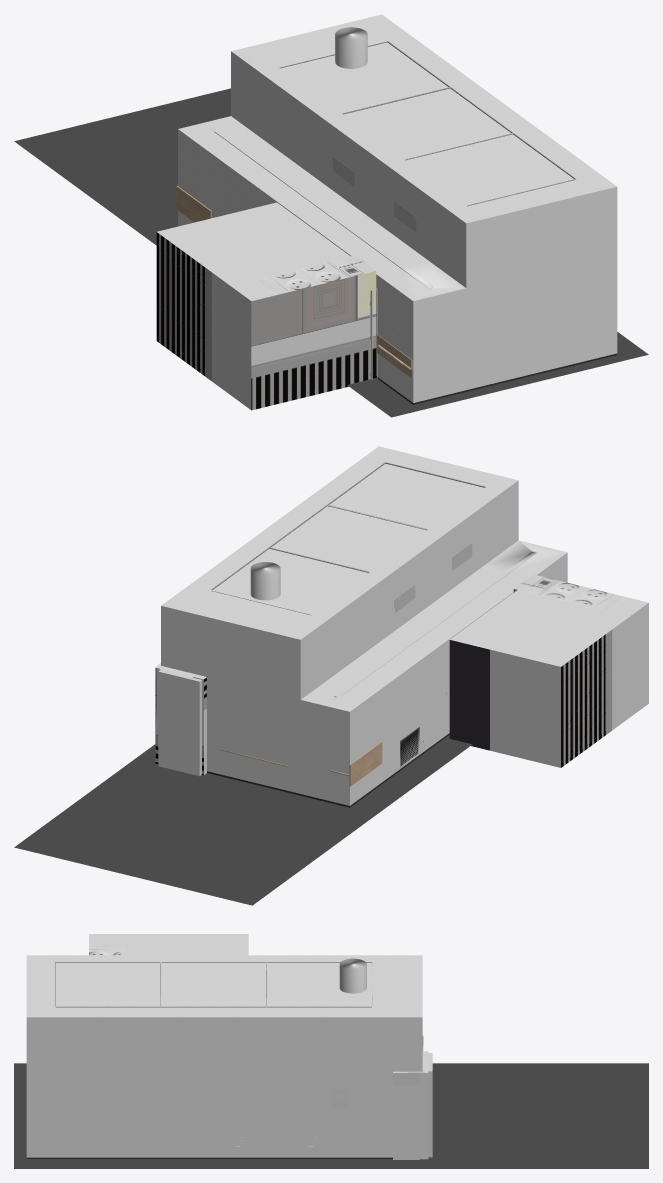
The model's file is Arena V2.fbx.
The picture shows the model from 3 angles, top to bottom: view 1: azimuth 30°, elevation 25°; view 2: azimuth 150°, elevation 25°; view 3: azimuth 270°, elevation 25°; orthographic projection. The views are drawn at different scales.
Parts seen in each view (by area): view 1: walls, floor, Cylinder.001, Cube.015, Cube.014, wood one, Plane.006, Plane.007, Plane.008; view 2: walls, floor, Cube.017, Cylinder.001, Cube.015; view 3: walls, floor, Cylinder.001, Plane.006, Cube.017, Plane.007, Plane.008.
Boxes of the visible parts, left/top/right/bottom form: walls: left=156, top=14, right=617, bottom=410; floor: left=14, top=88, right=648, bottom=417; Cylinder.001: left=335, top=27, right=367, bottom=68; Cube.015: left=176, top=185, right=211, bottom=222; Cube.014: left=332, top=156, right=416, bottom=231; wood one: left=377, top=335, right=412, bottom=378; Plane.006: left=404, top=133, right=576, bottom=206; Plane.007: left=341, top=87, right=513, bottom=160; Plane.008: left=278, top=40, right=450, bottom=114; walls: left=155, top=446, right=648, bottom=807; floor: left=14, top=735, right=472, bottom=905; Cube.017: left=158, top=669, right=201, bottom=776; Cylinder.001: left=250, top=562, right=280, bottom=600; Cube.015: left=330, top=742, right=382, bottom=786; walls: left=26, top=934, right=428, bottom=1159; floor: left=14, top=1063, right=648, bottom=1168; Cylinder.001: left=339, top=958, right=366, bottom=993; Plane.006: left=54, top=961, right=161, bottom=1007; Cube.017: left=428, top=1053, right=432, bottom=1157; Plane.007: left=160, top=961, right=267, bottom=1007; Plane.008: left=266, top=961, right=372, bottom=1007.
Bounding box in the file's own units: 873 × 471 × 1616.
